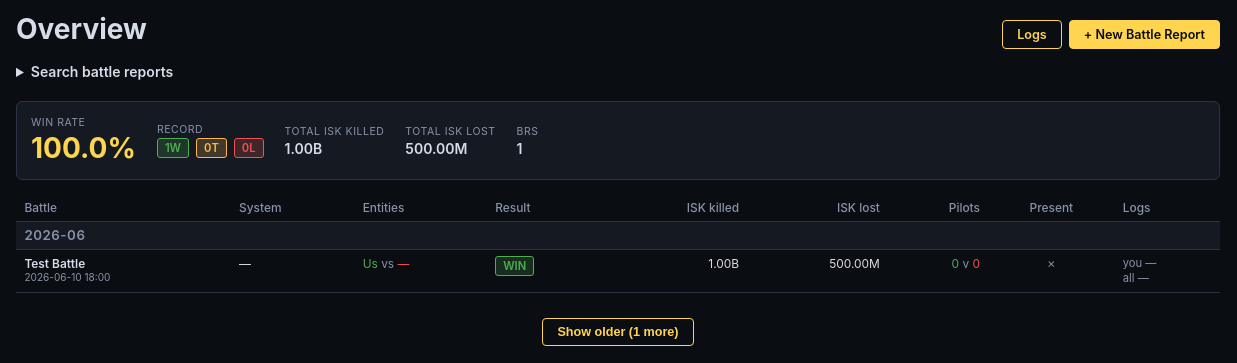
Test: BrListPage › pages the list: "Show older" fetches and appends the next page
The width and height of the screenshot is (1237, 363).
expect the link "Test Battle" is shown: met, box [24, 256, 85, 271]
expect the text "Older Battle" is not shown: met
Click the button with test id "show-older" at [618, 332], box [542, 318, 694, 346]
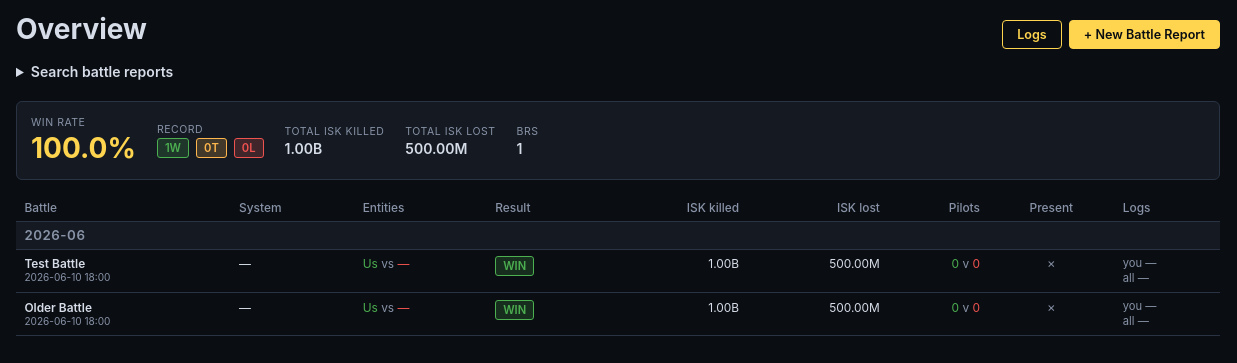
expect the link "Test Battle" is shown: met, box [24, 256, 85, 271]
expect the link "Older Battle" is shown: met, box [24, 300, 92, 314]
expect the button with test id "show-older" is gone: met
